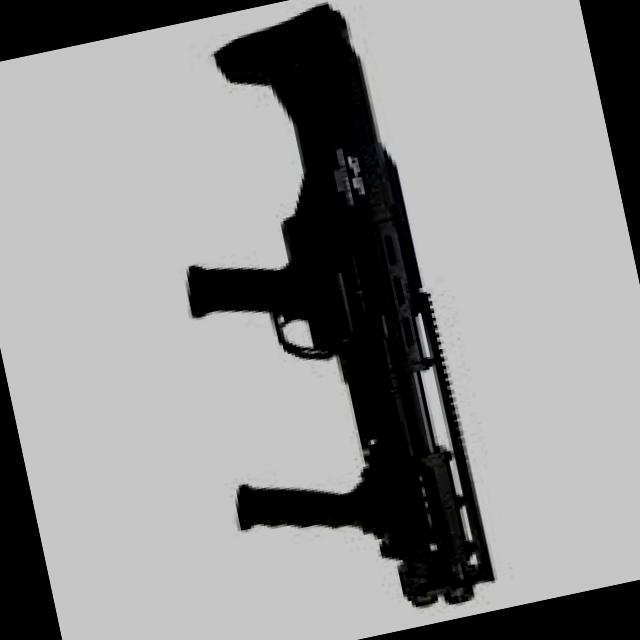long weapon: (142, 0, 519, 640)
